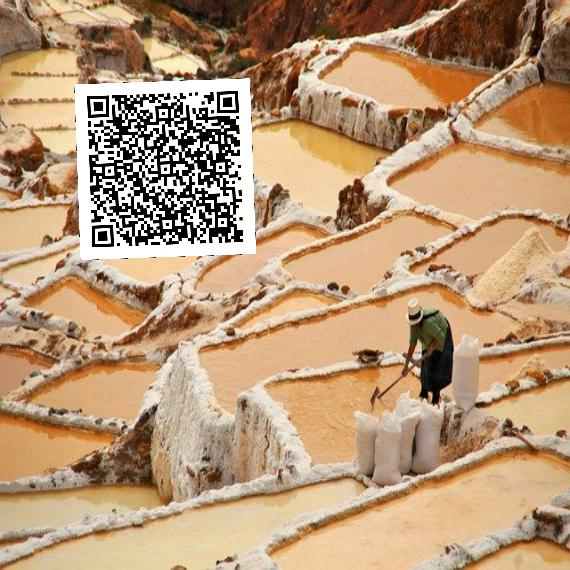qr_code: (74, 78, 255, 259)
